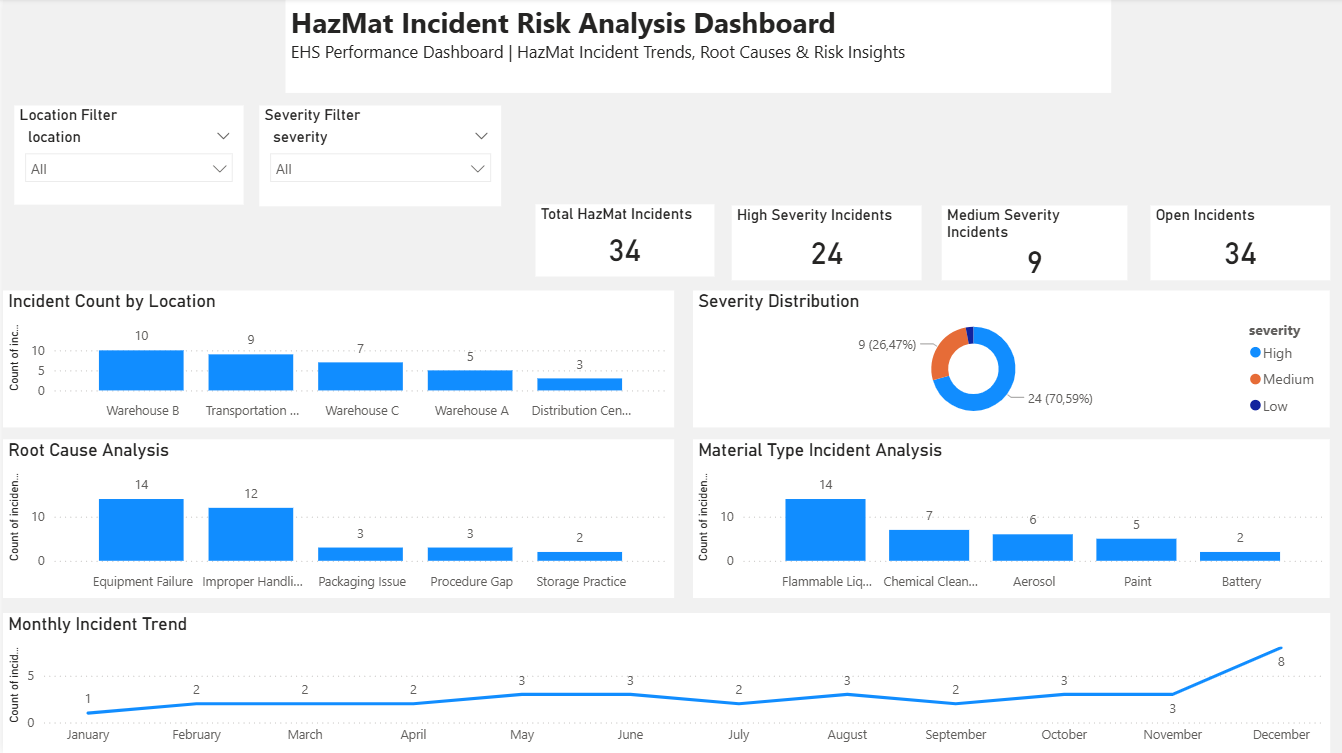

The page's visual inventory and layout, read from the dashboard file:
{"tool":"powerbi","page":{"name":"Page 1","canvas":[1280,720],"ordinal":0},"visuals":[{"type":"card","title":"Total HazMat Incidents","fields":{"Values":["CountNonNull(incidents.incident_id)"]},"box":[506.6,196.5,170.2,68.6],"z":0},{"type":"card","title":"High Severity Incidents","fields":{"Values":["CountNonNull(incidents.incident_id)"]},"box":[694.6,197.9,181.1,71.4],"z":1000},{"type":"card","title":"Medium Severity Incidents","fields":{"Values":["CountNonNull(incidents.incident_id)"]},"box":[893.6,197.9,177,71.4],"z":2000},{"type":"card","title":"Open Incidents","fields":{"Values":["CountNonNull(incidents.incident_id)"]},"box":[1092.6,197.9,171.5,71.4],"z":3000},{"type":"clusteredColumnChart","title":"Incident Count by Location","fields":{"Category":["incidents.location"],"Y":["CountNonNull(incidents.incident_id)"]},"box":[0,278.6,639.5,130.4],"z":4000},{"type":"clusteredColumnChart","title":"Root Cause Analysis","fields":{"Category":["incidents.root_cause"],"Y":["CountNonNull(incidents.incident_id)"]},"box":[0,419.9,639.5,150.9],"z":5000},{"type":"donutChart","title":"Severity Distribution","fields":{"Category":["incidents.severity"],"Y":["CountNonNull(incidents.incident_id)"]},"box":[657.3,278.6,606.5,130.4],"z":6000},{"type":"clusteredColumnChart","title":"Material Type Incident Analysis","fields":{"Category":["incidents.material_type"],"Y":["CountNonNull(incidents.incident_id)"]},"box":[657.3,419.9,606.5,150.9],"z":7000},{"type":"lineChart","title":"Monthly Incident Trend","fields":{"Category":["incidents.incident_date.Variation.Date Hierarchy.Month"],"Y":["CountNonNull(incidents.incident_id)"]},"box":[0,585.9,1263.8,134.5],"z":8000},{"type":"textbox","box":[269,0,786.3,90.6],"z":9000},{"type":"slicer","title":"Location Filter","fields":{"Values":["incidents.location"]},"box":[11,102.9,218.2,94.7],"z":10000},{"type":"slicer","title":"Severity Filter","fields":{"Values":["incidents.severity"]},"box":[244.3,102.9,230.5,96.1],"z":11000}]}

Visuals, with their boxes in screenshot pixels (x1, y1, x2, y2), scaled from the page's 1280x720 canvas onto the 1342x753 screenshot:
"Total HazMat Incidents" card: <bbox>531, 206, 710, 277</bbox>
"High Severity Incidents" card: <bbox>728, 207, 918, 282</bbox>
"Medium Severity Incidents" card: <bbox>937, 207, 1122, 282</bbox>
"Open Incidents" card: <bbox>1146, 207, 1325, 282</bbox>
"Incident Count by Location" clusteredColumnChart: <bbox>0, 291, 670, 428</bbox>
"Root Cause Analysis" clusteredColumnChart: <bbox>0, 439, 670, 597</bbox>
"Severity Distribution" donutChart: <bbox>689, 291, 1325, 428</bbox>
"Material Type Incident Analysis" clusteredColumnChart: <bbox>689, 439, 1325, 597</bbox>
"Monthly Incident Trend" lineChart: <bbox>0, 613, 1325, 752</bbox>
textbox: <bbox>282, 0, 1106, 95</bbox>
"Location Filter" slicer: <bbox>12, 108, 240, 207</bbox>
"Severity Filter" slicer: <bbox>256, 108, 498, 208</bbox>
